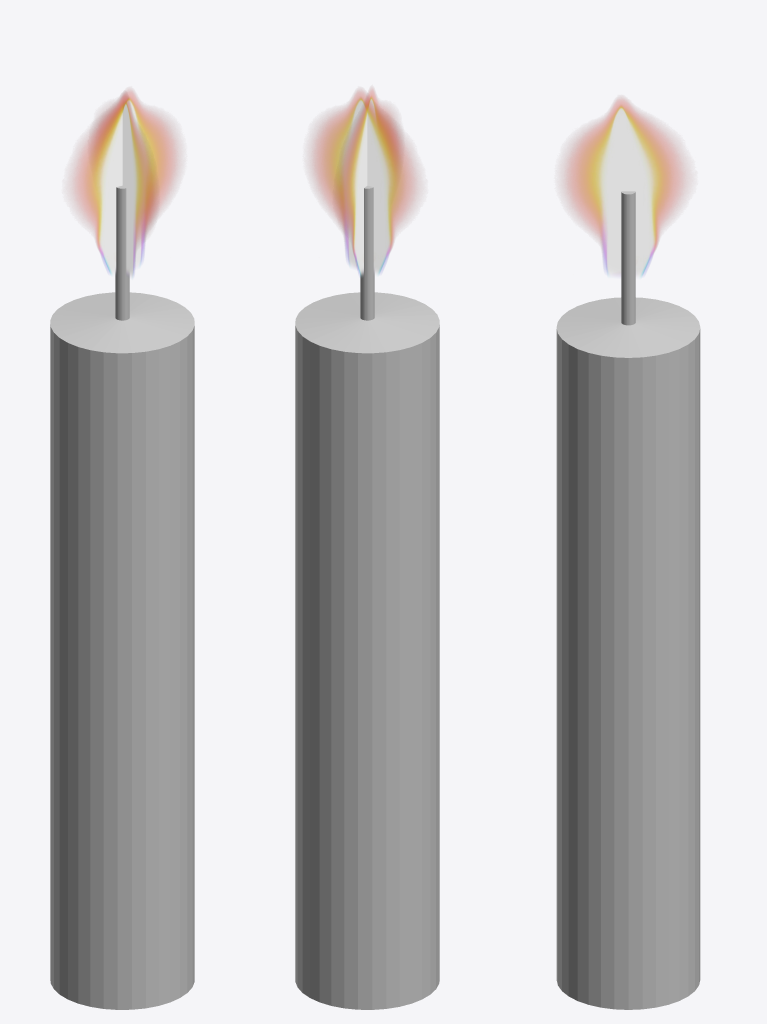
File: VELA.glb
3 renders of one model, left to right at view 1: azimuth 30°, elevation 25°; view 2: azimuth 150°, elevation 25°; view 3: azimuth 270°, elevation 25°, orthographic.
Visible parts, largest first — view 1: object 1, png-clipart-light-my-fire-candle-light.001, png-clipart-light-my-fire-candle-light; view 2: object 1, png-clipart-light-my-fire-candle-light.001, png-clipart-light-my-fire-candle-light; view 3: object 1, png-clipart-light-my-fire-candle-light.
Part boxes in pixels (bbox=[...]): object 1: bbox=[50, 185, 194, 1009]; png-clipart-light-my-fire-candle-light.001: bbox=[72, 90, 179, 274]; png-clipart-light-my-fire-candle-light: bbox=[96, 94, 155, 277]; object 1: bbox=[295, 185, 439, 1009]; png-clipart-light-my-fire-candle-light.001: bbox=[310, 90, 417, 274]; png-clipart-light-my-fire-candle-light: bbox=[338, 89, 398, 276]; object 1: bbox=[556, 191, 700, 1009]; png-clipart-light-my-fire-candle-light: bbox=[563, 98, 686, 277].
Bounding box in the file's own units: 1.73 × 7 × 1.73.
2 materials, 1 textured.
